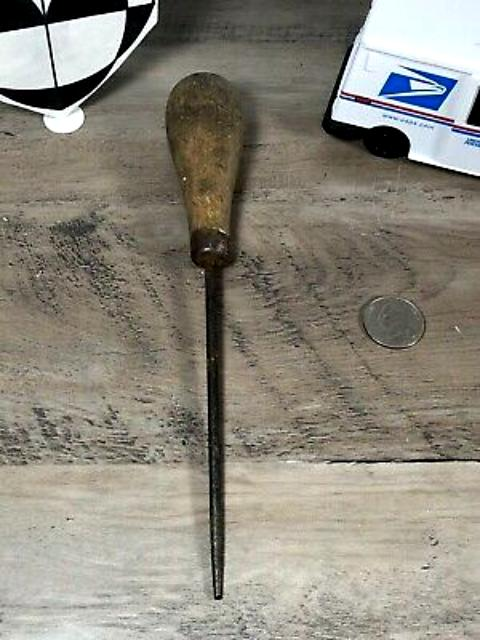ice pick: (165, 70, 245, 600)
